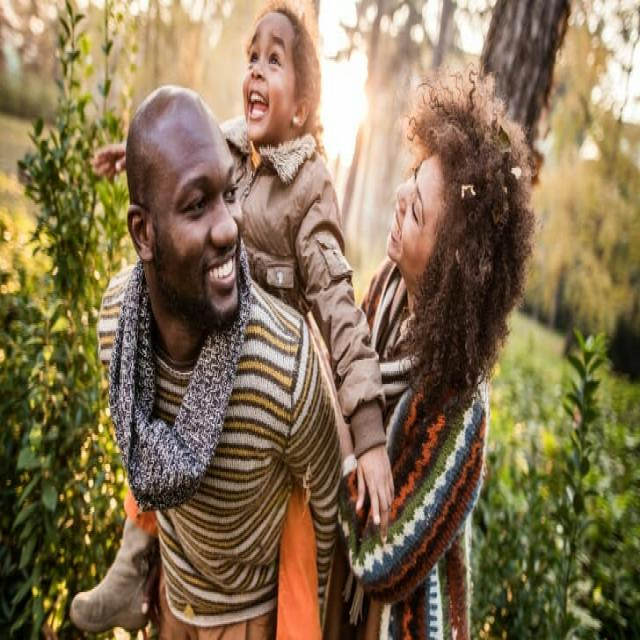adult: (93, 83, 340, 640), (351, 69, 531, 640)
child: (215, 6, 397, 534)
